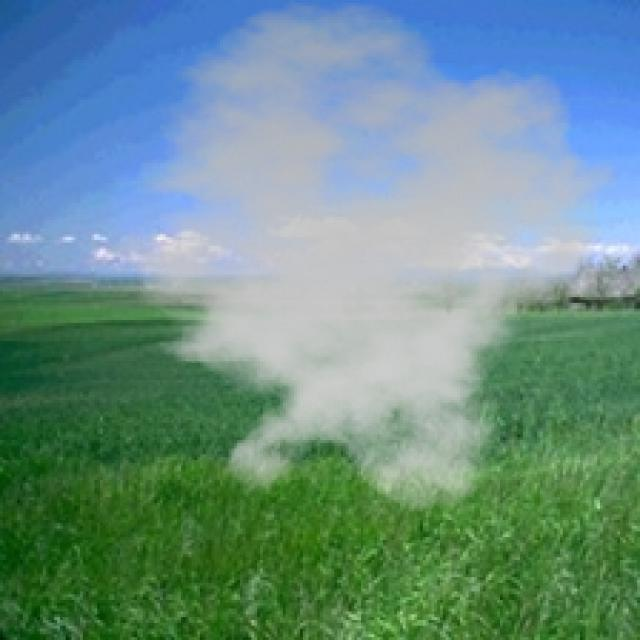smoke: (77, 0, 632, 515)
